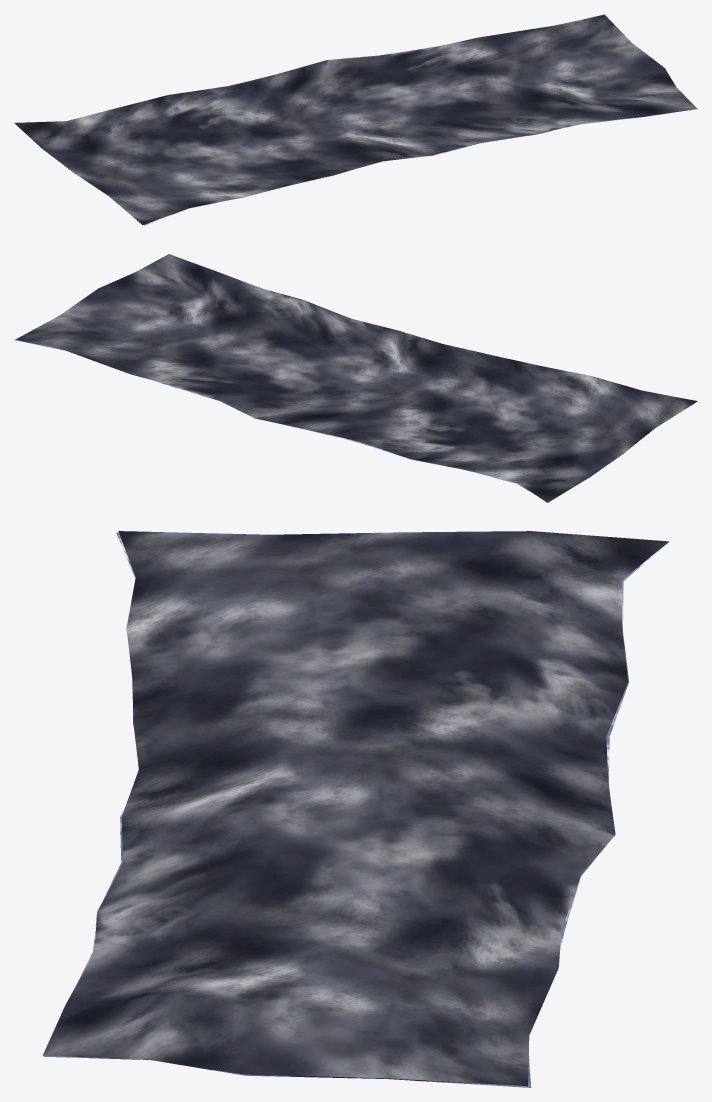
File: HTOWN01_WATER04.fbx
The picture shows the model from 3 angles, top to bottom: view 1: azimuth 30°, elevation 25°; view 2: azimuth 150°, elevation 25°; view 3: azimuth 270°, elevation 25°; orthographic projection. The views are drawn at different scales.
Visible parts, largest first — view 1: HTOWN01_WATER04; view 2: HTOWN01_WATER04; view 3: HTOWN01_WATER04.
Part boxes in pixels (<box>): HTOWN01_WATER04: <box>14,14,697,225</box>; HTOWN01_WATER04: <box>14,254,697,502</box>; HTOWN01_WATER04: <box>42,531,668,1087</box>.
Size of the model in its own units: 346484 by 2351 by 166330.
Materials: 2 (2 with a texture image).
